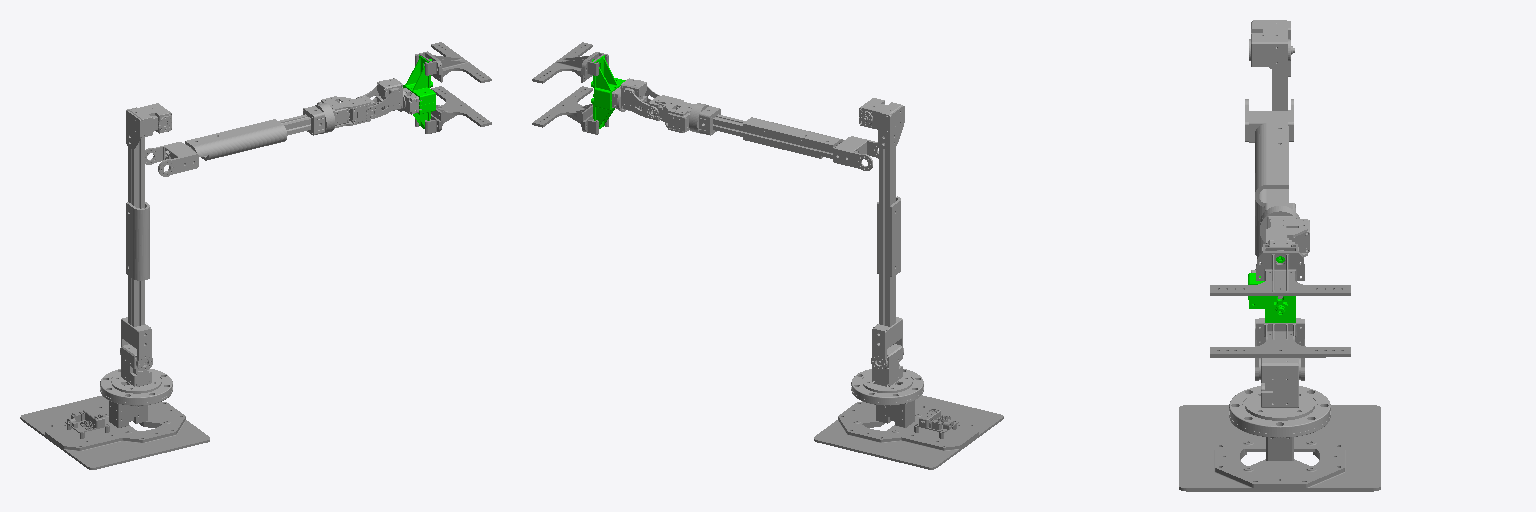
robot.urdf — 0525_arm:
<?xml version="1.0" ?>
<robot name="0525_arm">

  <material name="silver_default">
    <color rgba="0.700 0.700 0.700 1.000"/>
  </material>
  <material name="steel_satin">
    <color rgba="0.6274509803921569 0.6274509803921569 0.6274509803921569 1.0"/>
  </material>
  <material name="opaque02550">
    <color rgba="0.0 1.0 0.0 1.0"/>
  </material>

  <transmission name="Revolute 1_tran">
    <type>transmission_interface/SimpleTransmission</type>
    <joint name="Revolute 1">
      <hardwareInterface>hardware_interface/EffortJointInterface</hardwareInterface>
    </joint>
    <actuator name="Revolute 1_actr">
      <hardwareInterface>hardware_interface/EffortJointInterface</hardwareInterface>
      <mechanicalReduction>1</mechanicalReduction>
    </actuator>
  </transmission>
  <transmission name="Revolute 2_tran">
    <type>transmission_interface/SimpleTransmission</type>
    <joint name="Revolute 2">
      <hardwareInterface>hardware_interface/EffortJointInterface</hardwareInterface>
    </joint>
    <actuator name="Revolute 2_actr">
      <hardwareInterface>hardware_interface/EffortJointInterface</hardwareInterface>
      <mechanicalReduction>1</mechanicalReduction>
    </actuator>
  </transmission>
  <transmission name="Revolute 3_tran">
    <type>transmission_interface/SimpleTransmission</type>
    <joint name="Revolute 3">
      <hardwareInterface>hardware_interface/EffortJointInterface</hardwareInterface>
    </joint>
    <actuator name="Revolute 3_actr">
      <hardwareInterface>hardware_interface/EffortJointInterface</hardwareInterface>
      <mechanicalReduction>1</mechanicalReduction>
    </actuator>
  </transmission>
  <transmission name="Revolute 4_tran">
    <type>transmission_interface/SimpleTransmission</type>
    <joint name="Revolute 4">
      <hardwareInterface>hardware_interface/EffortJointInterface</hardwareInterface>
    </joint>
    <actuator name="Revolute 4_actr">
      <hardwareInterface>hardware_interface/EffortJointInterface</hardwareInterface>
      <mechanicalReduction>1</mechanicalReduction>
    </actuator>
  </transmission>
  <transmission name="Revolute 5_tran">
    <type>transmission_interface/SimpleTransmission</type>
    <joint name="Revolute 5">
      <hardwareInterface>hardware_interface/EffortJointInterface</hardwareInterface>
    </joint>
    <actuator name="Revolute 5_actr">
      <hardwareInterface>hardware_interface/EffortJointInterface</hardwareInterface>
      <mechanicalReduction>1</mechanicalReduction>
    </actuator>
  </transmission>
  <transmission name="Revolute 6_tran">
    <type>transmission_interface/SimpleTransmission</type>
    <joint name="Revolute 6">
      <hardwareInterface>hardware_interface/EffortJointInterface</hardwareInterface>
    </joint>
    <actuator name="Revolute 6_actr">
      <hardwareInterface>hardware_interface/EffortJointInterface</hardwareInterface>
      <mechanicalReduction>1</mechanicalReduction>
    </actuator>
  </transmission>
  <transmission name="Slider 1_tran">
    <type>transmission_interface/SimpleTransmission</type>
    <joint name="Slider 1">
      <hardwareInterface>hardware_interface/EffortJointInterface</hardwareInterface>
    </joint>
    <actuator name="Slider 1_actr">
      <hardwareInterface>hardware_interface/EffortJointInterface</hardwareInterface>
      <mechanicalReduction>1</mechanicalReduction>
    </actuator>
  </transmission>
  <transmission name="Slider 2_tran">
    <type>transmission_interface/SimpleTransmission</type>
    <joint name="Slider 2">
      <hardwareInterface>hardware_interface/EffortJointInterface</hardwareInterface>
    </joint>
    <actuator name="Slider 2_actr">
      <hardwareInterface>hardware_interface/EffortJointInterface</hardwareInterface>
      <mechanicalReduction>1</mechanicalReduction>
    </actuator>
  </transmission>

  <link name="base_link">
    <inertial>
      <origin rpy="0 0 0" xyz="-0.040820856158369646 0.00036104809684655377 0.015213618835662102"/>
      <mass value="0.700086994811545"/>
      <inertia ixx="0.001733" ixy="1.7e-05" ixz="-2.5e-05" iyy="0.002626" iyz="-4e-06" izz="0.004024"/>
    </inertial>
    <visual>
      <origin rpy="0 0 0" xyz="0 0 0"/>
      <geometry>
        <mesh filename="package://0525_arm_description/meshes/base_link.stl" scale="0.001 0.001 0.001"/>
      </geometry>
      <material name="steel_satin"/>
    </visual>
    <collision>
      <origin rpy="0 0 0" xyz="0 0 0"/>
      <geometry>
        <mesh filename="package://0525_arm_description/meshes/base_link.stl" scale="0.001 0.001 0.001"/>
      </geometry>
    </collision>
  </link>
  <link name="link1_1">
    <inertial>
      <origin rpy="0 0 0" xyz="-0.00010633595242680766 0.00020725329457724903 0.02696631976786002"/>
      <mass value="0.28442007333799074"/>
      <inertia ixx="0.000333" ixy="0.0" ixz="-1e-06" iyy="0.000325" iyz="-2e-06" izz="0.000378"/>
    </inertial>
    <visual>
      <origin rpy="0 0 0" xyz="0.0 -0.0 -0.0555"/>
      <geometry>
        <mesh filename="package://0525_arm_description/meshes/link1_1.stl" scale="0.001 0.001 0.001"/>
      </geometry>
      <material name="silver_default"/>
    </visual>
    <collision>
      <origin rpy="0 0 0" xyz="0.0 -0.0 -0.0555"/>
      <geometry>
        <mesh filename="package://0525_arm_description/meshes/link1_1.stl" scale="0.001 0.001 0.001"/>
      </geometry>
    </collision>
  </link>
  <link name="link2_1">
    <inertial>
      <origin rpy="0 0 0" xyz="0.00637292515398388 -0.031033732131428293 0.2266539332199798"/>
      <mass value="1.9808964170638441"/>
      <inertia ixx="0.030156" ixy="6e-05" ixz="-0.001568" iyy="0.030203" iyz="0.000907" izz="0.000908"/>
    </inertial>
    <visual>
      <origin rpy="0 0 0" xyz="3.7e-05 -0.024464 -0.12355"/>
      <geometry>
        <mesh filename="package://0525_arm_description/meshes/link2_1.stl" scale="0.001 0.001 0.001"/>
      </geometry>
      <material name="silver_default"/>
    </visual>
    <collision>
      <origin rpy="0 0 0" xyz="3.7e-05 -0.024464 -0.12355"/>
      <geometry>
        <mesh filename="package://0525_arm_description/meshes/link2_1.stl" scale="0.001 0.001 0.001"/>
      </geometry>
    </collision>
  </link>
  <link name="link3_1">
    <inertial>
      <origin rpy="0 0 0" xyz="0.16381077990224677 0.02885444035638012 0.0001998411564803071"/>
      <mass value="1.595534741397531"/>
      <inertia ixx="0.000496" ixy="-0.00082" ixz="4e-05" iyy="0.016604" iyz="1e-06" izz="0.016792"/>
    </inertial>
    <visual>
      <origin rpy="0 0 0" xyz="-0.034868 0.036505 -0.4753"/>
      <geometry>
        <mesh filename="package://0525_arm_description/meshes/link3_1.stl" scale="0.001 0.001 0.001"/>
      </geometry>
      <material name="silver_default"/>
    </visual>
    <collision>
      <origin rpy="0 0 0" xyz="-0.034868 0.036505 -0.4753"/>
      <geometry>
        <mesh filename="package://0525_arm_description/meshes/link3_1.stl" scale="0.001 0.001 0.001"/>
      </geometry>
    </collision>
  </link>
  <link name="link4_1">
    <inertial>
      <origin rpy="0 0 0" xyz="0.04210024944627366 0.005170122132596722 -1.2073697515102566e-06"/>
      <mass value="0.828744250174943"/>
      <inertia ixx="0.00023" ixy="9.5e-05" ixz="-0.0" iyy="0.000619" iyz="0.0" izz="0.000688"/>
    </inertial>
    <visual>
      <origin rpy="0 0 0" xyz="-0.360435 -0.000288 -0.4752"/>
      <geometry>
        <mesh filename="package://0525_arm_description/meshes/link4_1.stl" scale="0.001 0.001 0.001"/>
      </geometry>
      <material name="silver_default"/>
    </visual>
    <collision>
      <origin rpy="0 0 0" xyz="-0.360435 -0.000288 -0.4752"/>
      <geometry>
        <mesh filename="package://0525_arm_description/meshes/link4_1.stl" scale="0.001 0.001 0.001"/>
      </geometry>
    </collision>
  </link>
  <link name="link5_1">
    <inertial>
      <origin rpy="0 0 0" xyz="0.04429399783850041 -0.0185328285303192 0.011633483161794023"/>
      <mass value="0.14912306056799499"/>
      <inertia ixx="4.4e-05" ixy="1e-06" ixz="-3e-06" iyy="4.6e-05" iyz="0.0" izz="4.1e-05"/>
    </inertial>
    <visual>
      <origin rpy="0 0 0" xyz="-0.439118 -0.019359 -0.4752"/>
      <geometry>
        <mesh filename="package://0525_arm_description/meshes/link5_1.stl" scale="0.001 0.001 0.001"/>
      </geometry>
      <material name="silver_default"/>
    </visual>
    <collision>
      <origin rpy="0 0 0" xyz="-0.439118 -0.019359 -0.4752"/>
      <geometry>
        <mesh filename="package://0525_arm_description/meshes/link5_1.stl" scale="0.001 0.001 0.001"/>
      </geometry>
    </collision>
  </link>
  <link name="link6_1">
    <inertial>
      <origin rpy="0 0 0" xyz="0.021371181918969362 -0.0110541257671988 1.700855828679071e-06"/>
      <mass value="0.4351295137369132"/>
      <inertia ixx="0.000113" ixy="6e-06" ixz="0.0" iyy="0.000105" iyz="-0.0" izz="0.000158"/>
    </inertial>
    <visual>
      <origin rpy="0 0 0" xyz="-0.503935 -0.000517 -0.4752"/>
      <geometry>
        <mesh filename="package://0525_arm_description/meshes/link6_1.stl" scale="0.001 0.001 0.001"/>
      </geometry>
      <material name="silver_default"/>
    </visual>
    <collision>
      <origin rpy="0 0 0" xyz="-0.503935 -0.000517 -0.4752"/>
      <geometry>
        <mesh filename="package://0525_arm_description/meshes/link6_1.stl" scale="0.001 0.001 0.001"/>
      </geometry>
    </collision>
  </link>
  <link name="EndEffector_1">
    <inertial>
      <origin rpy="0 0 0" xyz="-0.004885954407517601 -0.0036198984293666116 4.046185011813419e-05"/>
      <mass value="0.2999455316821665"/>
      <inertia ixx="0.000277" ixy="-2e-06" ixz="0.0" iyy="0.000236" iyz="-0.0" izz="0.000109"/>
    </inertial>
    <visual>
      <origin rpy="0 0 0" xyz="-0.548935 -0.000557 -0.47515"/>
      <geometry>
        <mesh filename="package://0525_arm_description/meshes/EndEffector_1.stl" scale="0.001 0.001 0.001"/>
      </geometry>
      <material name="opaque02550"/>
    </visual>
    <collision>
      <origin rpy="0 0 0" xyz="-0.548935 -0.000557 -0.47515"/>
      <geometry>
        <mesh filename="package://0525_arm_description/meshes/EndEffector_1.stl" scale="0.001 0.001 0.001"/>
      </geometry>
    </collision>
  </link>
  <link name="left_finger_1">
    <inertial>
      <origin rpy="0 0 0" xyz="0.03403901633983453 -6.823868918867074e-06 0.010602891865212738"/>
      <mass value="0.3076181632680406"/>
      <inertia ixx="0.000321" ixy="0.0" ixz="-3.9e-05" iyy="0.000254" iyz="-0.0" izz="0.000538"/>
    </inertial>
    <visual>
      <origin rpy="0 0 0" xyz="-0.556935 -0.000541 -0.42015"/>
      <geometry>
        <mesh filename="package://0525_arm_description/meshes/left_finger_1.stl" scale="0.001 0.001 0.001"/>
      </geometry>
      <material name="steel_satin"/>
    </visual>
    <collision>
      <origin rpy="0 0 0" xyz="-0.556935 -0.000541 -0.42015"/>
      <geometry>
        <mesh filename="package://0525_arm_description/meshes/left_finger_1.stl" scale="0.001 0.001 0.001"/>
      </geometry>
    </collision>
  </link>
  <link name="right_finger_1">
    <inertial>
      <origin rpy="0 0 0" xyz="0.03403959186151451 -6.4562398618145e-06 -0.010601306968202273"/>
      <mass value="0.3076182712077128"/>
      <inertia ixx="0.000321" ixy="0.0" ixz="3.9e-05" iyy="0.000254" iyz="-0.0" izz="0.000538"/>
    </inertial>
    <visual>
      <origin rpy="0 0 0" xyz="-0.556934 -0.000587 -0.53015"/>
      <geometry>
        <mesh filename="package://0525_arm_description/meshes/right_finger_1.stl" scale="0.001 0.001 0.001"/>
      </geometry>
      <material name="steel_satin"/>
    </visual>
    <collision>
      <origin rpy="0 0 0" xyz="-0.556934 -0.000587 -0.53015"/>
      <geometry>
        <mesh filename="package://0525_arm_description/meshes/right_finger_1.stl" scale="0.001 0.001 0.001"/>
      </geometry>
    </collision>
  </link>
  
  <ros2_control name="RobotHardware" type="system">
    <hardware>
      <plugin>mock_components/GenericSystem</plugin>
    </hardware>
    <joint name="Revolute 1">
      <command_interface name="position"/>
      <state_interface name="position"/>
      <state_interface name="velocity"/>
    </joint>
    <joint name="Revolute 2">
      <command_interface name="position"/>
      <state_interface name="position"/>
      <state_interface name="velocity"/>
    </joint>
    <joint name="Revolute 3">
      <command_interface name="position"/>
      <state_interface name="position"/>
      <state_interface name="velocity"/>
    </joint>
    <joint name="Revolute 4">
      <command_interface name="position"/>
      <state_interface name="position"/>
      <state_interface name="velocity"/>
    </joint>
    <joint name="Revolute 5">
      <command_interface name="position"/>
      <state_interface name="position"/>
      <state_interface name="velocity"/>
    </joint>
    <joint name="Revolute 6">
      <command_interface name="position"/>
      <state_interface name="position"/>
      <state_interface name="velocity"/>
    </joint>
    <joint name="Slider 1">
      <command_interface name="position"/>
      <state_interface name="position"/>
      <state_interface name="velocity"/>
    </joint>
    <joint name="Slider 2">
      <command_interface name="position"/>
      <state_interface name="position"/>
      <state_interface name="velocity"/>
    </joint>
  </ros2_control>

  <joint name="Revolute 1" type="continuous">
    <origin rpy="0 0 0" xyz="0.0 0.0 0.0555"/>
    <parent link="base_link"/>
    <child link="link1_1"/>
    <axis xyz="-0.0 0.0 1.0"/>
  </joint>
  <joint name="Revolute 2" type="continuous">
    <origin rpy="0 0 0" xyz="-3.7e-05 0.024464 0.06805"/>
    <parent link="link1_1"/>
    <child link="link2_1"/>
    <axis xyz="-0.000898 1.0 -0.0"/>
  </joint>
  <joint name="Revolute 3" type="continuous">
    <origin rpy="0 0 0" xyz="0.034905 -0.060969 0.35175"/>
    <parent link="link2_1"/>
    <child link="link3_1"/>
    <axis xyz="0.000898 -1.0 -0.0"/>
  </joint>
  <joint name="Revolute 4" type="continuous">
    <origin rpy="0 0 0" xyz="0.325567 0.036793 -0.0001"/>
    <parent link="link3_1"/>
    <child link="link4_1"/>
    <axis xyz="1.0 0.000898 0.0"/>
  </joint>
  <joint name="Revolute 5" type="continuous">
    <origin rpy="0 0 0" xyz="0.078683 0.019071 0.0"/>
    <parent link="link4_1"/>
    <child link="link5_1"/>
    <axis xyz="-0.000898 1.0 0.0"/>
  </joint>
  <joint name="Revolute 6" type="continuous">
    <origin rpy="0 0 0" xyz="0.064817 -0.018842 0.0"/>
    <parent link="link5_1"/>
    <child link="link6_1"/>
    <axis xyz="1.0 0.000898 0.0"/>
  </joint>
  <joint name="Rigid 7" type="fixed">
    <origin rpy="0 0 0" xyz="0.045 4e-05 -5e-05"/>
    <parent link="link6_1"/>
    <child link="EndEffector_1"/>
  </joint>
  <joint name="Slider 1" type="prismatic">
    <origin rpy="0 0 0" xyz="0.007999 3e-05 0.055"/>
    <parent link="EndEffector_1"/>
    <child link="right_finger_1"/>
    <axis xyz="0.0 0.0 -1.0"/>
    <limit effort="100" lower="0.0" upper="0.024" velocity="100"/>
  </joint>
  <joint name="Slider 2" type="prismatic">
    <origin rpy="0 0 0" xyz="0.008 -1.6e-05 -0.055"/>
    <parent link="EndEffector_1"/>
    <child link="left_finger_1"/>
    <axis xyz="0.0 0.0 -1.0"/>
    <limit effort="100" lower="-0.024" upper="0.0" velocity="100"/>
    <mimic joint="Slider 1" multiplier="-1.0" offset="0.0"/>
  </joint>
</robot>

--- What the picture shows (computed from the rendered views, not written in the file) ---
Views: 3 orthographic renders of the robot side by side, from view 1: azimuth 30°, elevation 25°; view 2: azimuth 150°, elevation 25°; view 3: azimuth 270°, elevation 25°.
Model 0525_arm with 10 links and 9 joints (6 continuous, 2 prismatic, 1 fixed), rooted at base_link, posed all joints at 0.
Links seen in each view (by area): view 1: base_link, link2_1, link3_1, link1_1, right_finger_1, left_finger_1, link4_1, EndEffector_1, link5_1; view 2: base_link, link2_1, link3_1, link1_1, right_finger_1, left_finger_1, link4_1, EndEffector_1, link5_1; view 3: base_link, link1_1, link3_1, link2_1, right_finger_1, left_finger_1, link4_1, EndEffector_1.
Boxes of the visible links, box(x1,y1,x2,y2) form: base_link: box(20, 396, 209, 469); link2_1: box(120, 103, 171, 370); link3_1: box(145, 104, 331, 176); link1_1: box(100, 344, 172, 405); right_finger_1: box(415, 42, 491, 82); left_finger_1: box(415, 86, 491, 133); link4_1: box(317, 95, 376, 131); EndEffector_1: box(403, 55, 435, 128); link5_1: box(363, 78, 402, 118); base_link: box(814, 395, 1003, 469); link2_1: box(859, 98, 904, 370); link3_1: box(692, 104, 878, 170); link1_1: box(851, 344, 923, 405); right_finger_1: box(532, 42, 608, 83); left_finger_1: box(532, 86, 608, 134); link4_1: box(647, 95, 700, 132); EndEffector_1: box(591, 55, 625, 128); link5_1: box(621, 78, 659, 118); base_link: box(1179, 405, 1380, 491); link1_1: box(1229, 358, 1330, 437); link3_1: box(1245, 99, 1299, 222); link2_1: box(1249, 20, 1304, 380); right_finger_1: box(1210, 244, 1350, 295); left_finger_1: box(1210, 323, 1350, 357); link4_1: box(1260, 209, 1309, 256); EndEffector_1: box(1248, 256, 1295, 322).
Size in the robot's own frame: 0.7887 by 0.24 by 0.5731 metres.
10 mesh visuals loaded from 10 distinct referenced files (10 binary STL).